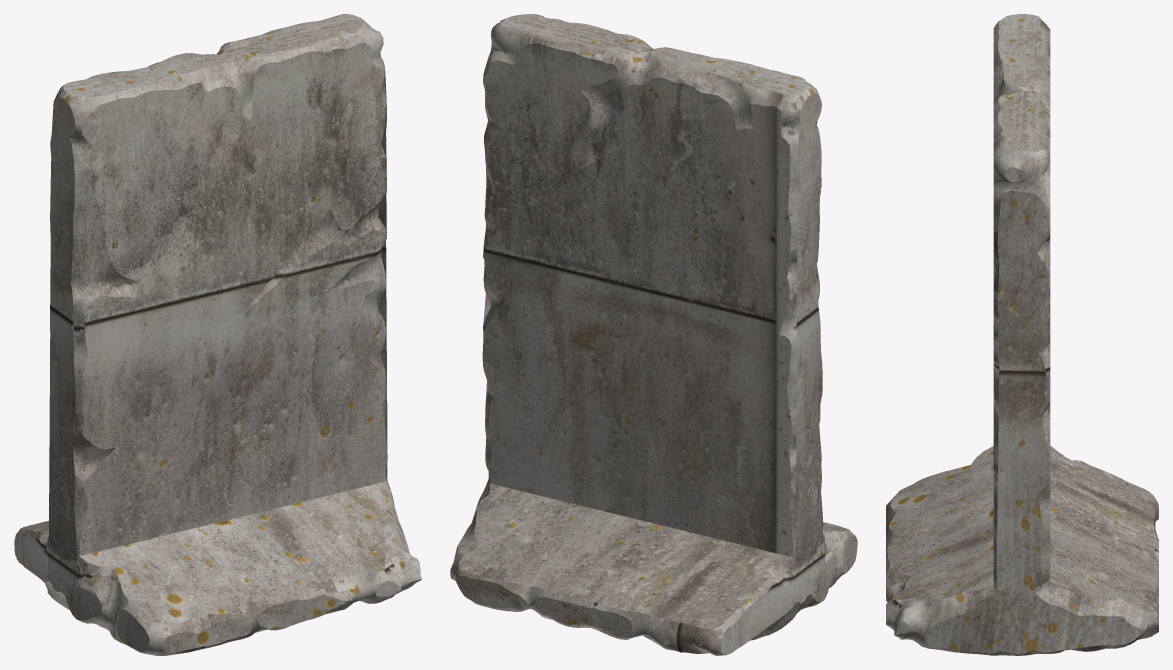
File: Bet_blok_003-2.fbx
3 views of the same model, side by side, from view 1: azimuth 30°, elevation 25°; view 2: azimuth 150°, elevation 25°; view 3: azimuth 270°, elevation 25° (orthographic). The views are drawn at different scales.
Visible parts, largest first — view 1: Plane.002_dmg.003; view 2: Plane.002_dmg.003; view 3: Plane.002_dmg.003.
Part boxes in pixels (x1,y1,x2,y2): Plane.002_dmg.003: (14,14,421,655); Plane.002_dmg.003: (450,14,857,655); Plane.002_dmg.003: (886,14,1158,655).
Bounding box in the file's own units: 160 × 257 × 127.
